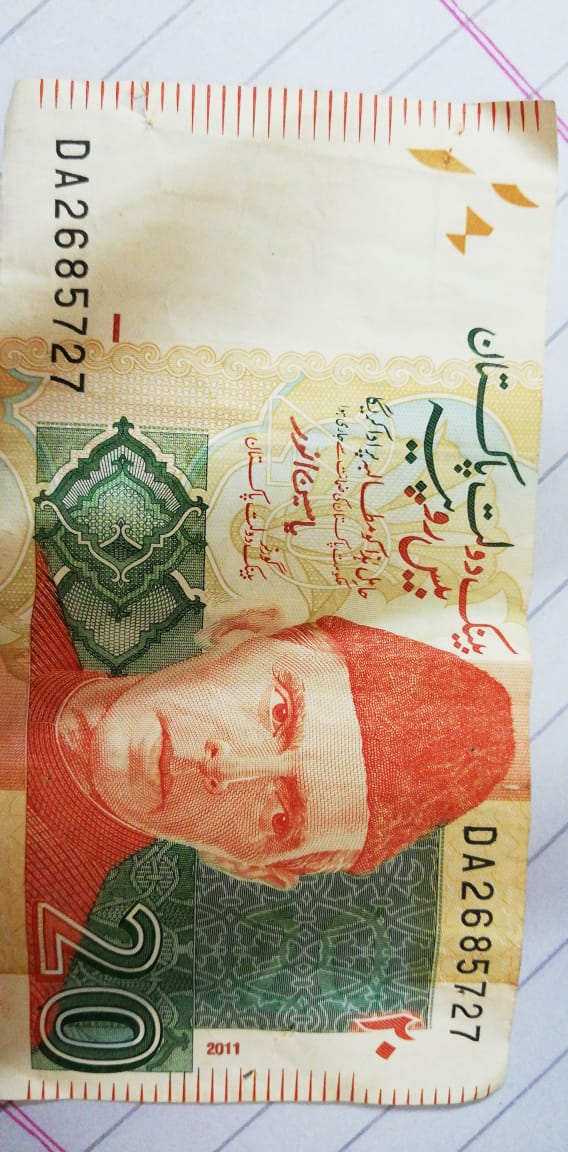20 rupee: (7, 51, 544, 1127)
